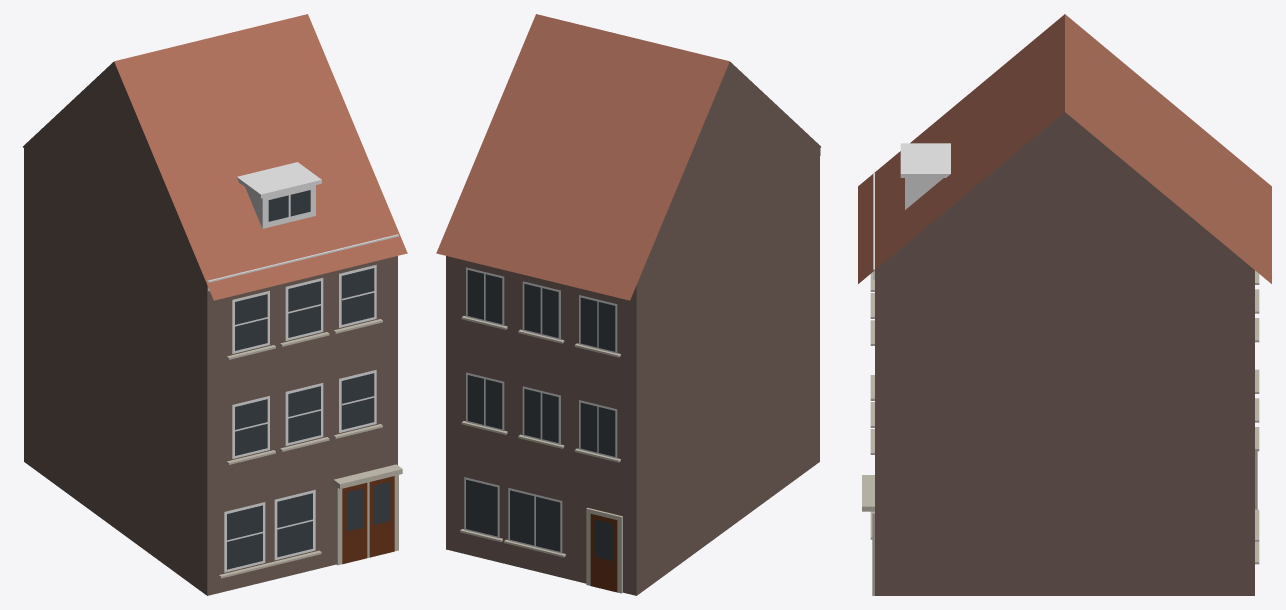
File: we-or-roof__brown__3__gable__long__solid__mirror.glb
3 renders of one model, left to right at view 1: azimuth 30°, elevation 25°; view 2: azimuth 150°, elevation 25°; view 3: azimuth 270°, elevation 25°, orthographic. The views are drawn at different scales.
Parts seen in each view (by area): view 1: we-or-roof__brown__3__gable__long__solid__mirror; view 2: we-or-roof__brown__3__gable__long__solid__mirror; view 3: we-or-roof__brown__3__gable__long__solid__mirror.
Boxes of the visible parts, x1=… form: we-or-roof__brown__3__gable__long__solid__mirror: x1=23, y1=14, x2=407, y2=595; we-or-roof__brown__3__gable__long__solid__mirror: x1=436, y1=14, x2=820, y2=595; we-or-roof__brown__3__gable__long__solid__mirror: x1=858, y1=14, x2=1271, y2=595.
Size of the model in its own units: 6.17 by 14.23 by 11.01.
